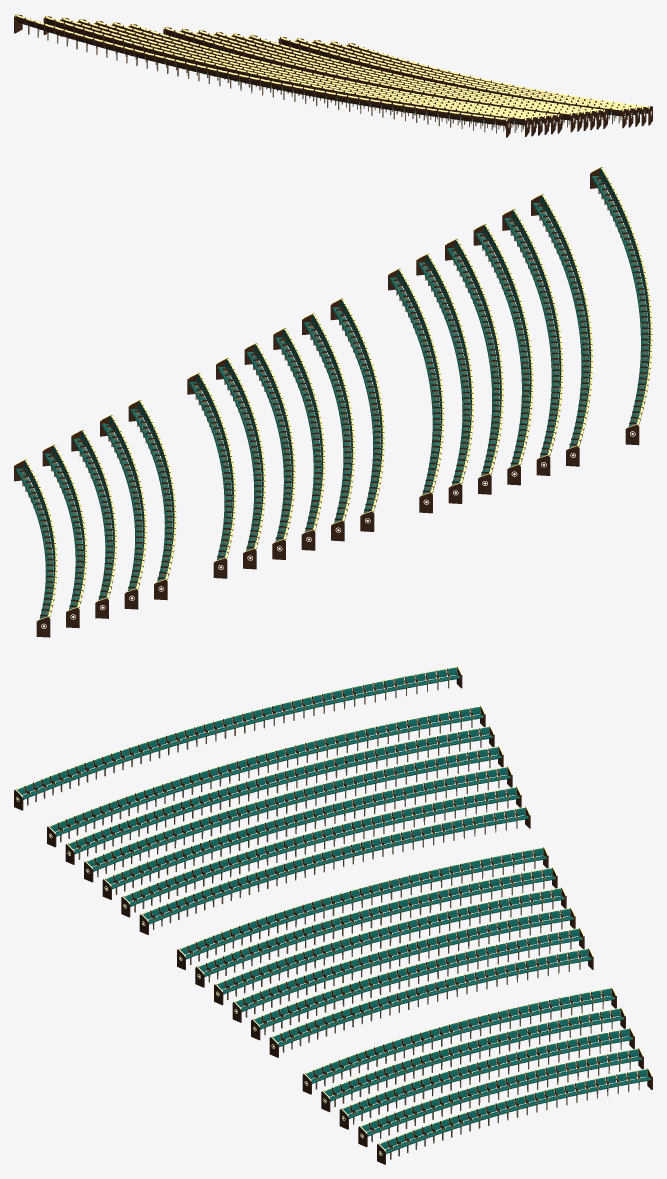
The model's file is mwm_seats_end_t.glb.
3 renders of one model, top to bottom at view 1: azimuth 30°, elevation 25°; view 2: azimuth 150°, elevation 25°; view 3: azimuth 270°, elevation 25°, orthographic. The views are drawn at different scales.
Parts seen in each view (by area): view 1: walnut, gold, bronze, velvet_t; view 2: velvet_t, walnut, gold, bronze; view 3: velvet_t, walnut, bronze, gold.
Boxes of the visible parts, x1,y1,x2,y2 form: walnut: [14, 14, 652, 137]; gold: [14, 14, 651, 120]; bronze: [28, 26, 627, 133]; velvet_t: [25, 24, 647, 125]; velvet_t: [15, 168, 650, 618]; walnut: [14, 167, 652, 637]; gold: [14, 166, 652, 620]; bronze: [22, 179, 646, 617]; velvet_t: [17, 667, 650, 1154]; walnut: [14, 666, 652, 1164]; bronze: [27, 675, 639, 1159]; gold: [15, 666, 652, 1151].
Size of the model in its own units: 45.29 by 16.2 by 43.28.
5 materials, 2 textured.
